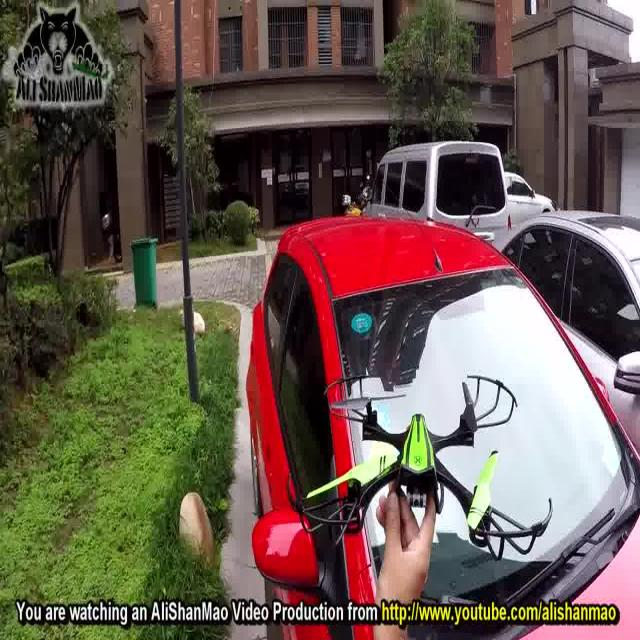drones: (282, 359, 560, 568)
